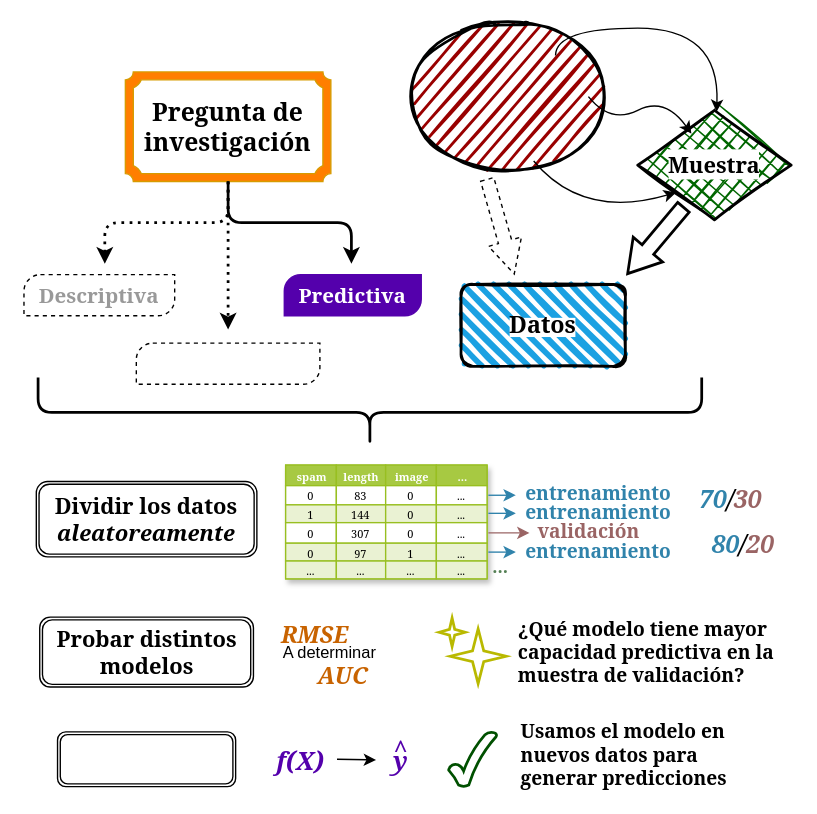
Some shapes in this 817 by 814 pixel diagram are drawn without their labels. The centre of each missing label's shape, as x and y in pixels:
"Contrafactual" goes at point (227, 363).
"Población" goes at point (507, 96).
"Predicción" goes at point (146, 758).
